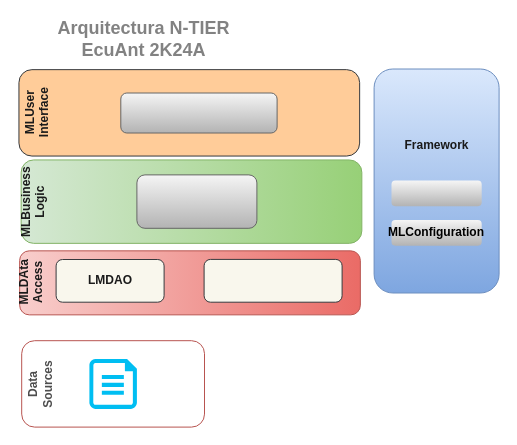
Image size: 517x445. Some labels were removed from this diagram. The centre of each missing label's shape, as x and y in pixels:
LMDTO: [272,280]
MLEntities: [196,201]
MLException: [436,193]
MLUI Component: [198,112]
